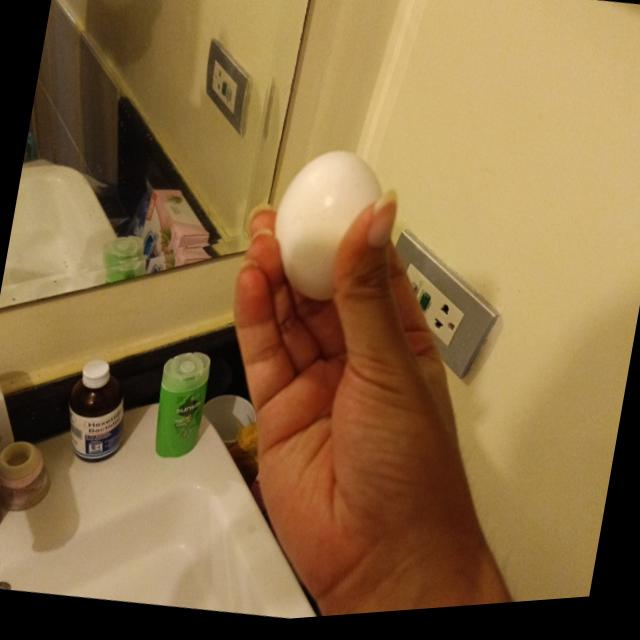egg: (261, 145, 385, 313)
